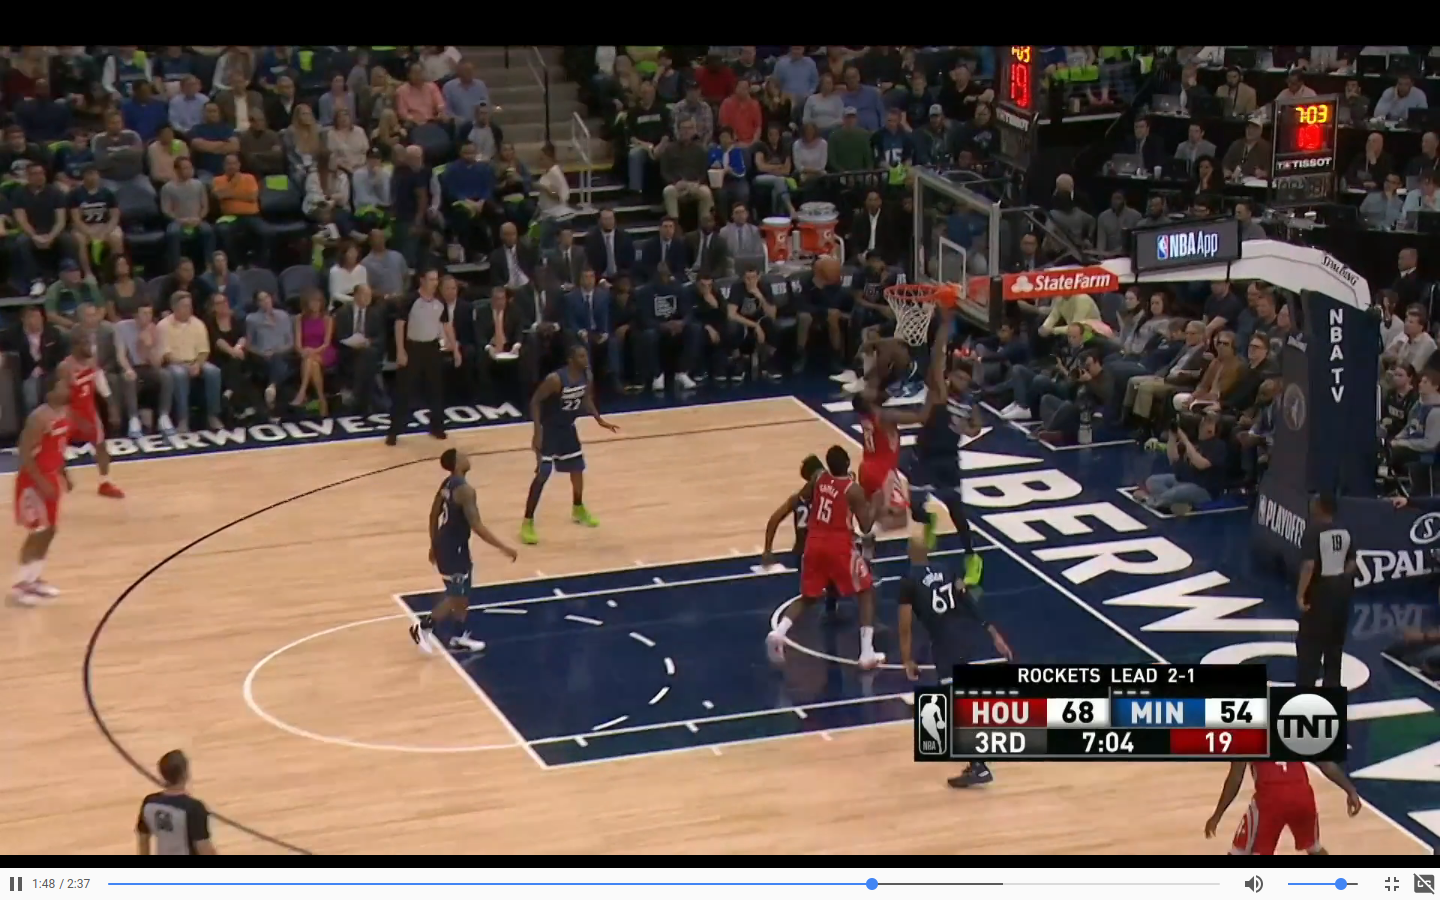ball: (814, 260, 840, 284)
player: (431, 451, 502, 689), (818, 452, 883, 688), (539, 351, 612, 542), (902, 536, 1011, 663), (27, 380, 76, 606), (921, 366, 976, 562), (72, 341, 132, 497), (851, 391, 912, 506)
referee: (390, 275, 453, 441), (135, 752, 222, 854)
